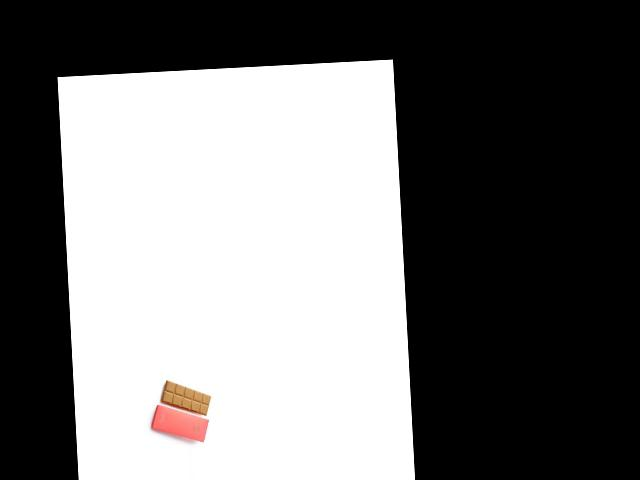chocolate: (157, 378, 213, 420)
